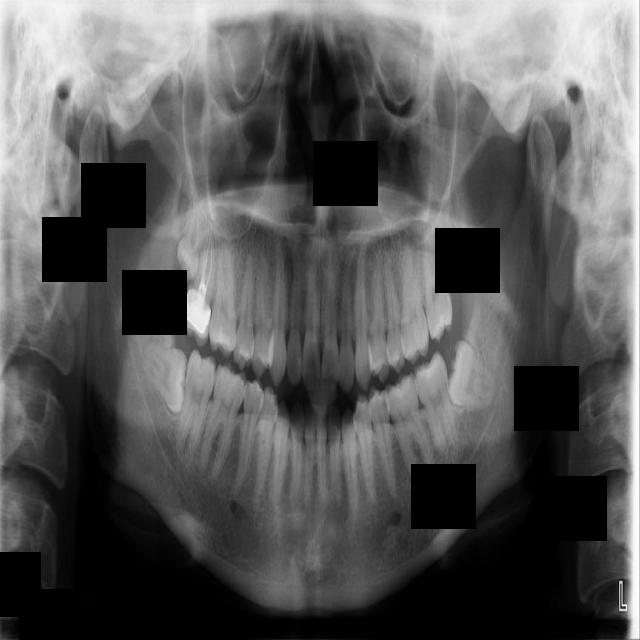3M ESPE Implant: (176, 210, 201, 283)
52: (180, 284, 214, 347)
73: (186, 219, 226, 309), (618, 576, 622, 584)
BioHorizons Implant: (418, 218, 456, 344)
Biomet 3i Implant: (443, 338, 503, 412)
Blue Sky Bio Implant: (409, 350, 461, 460)
Caries: (179, 219, 222, 349)
Implant: (172, 349, 220, 467)
Keystone Dental Implant: (135, 341, 193, 414)
